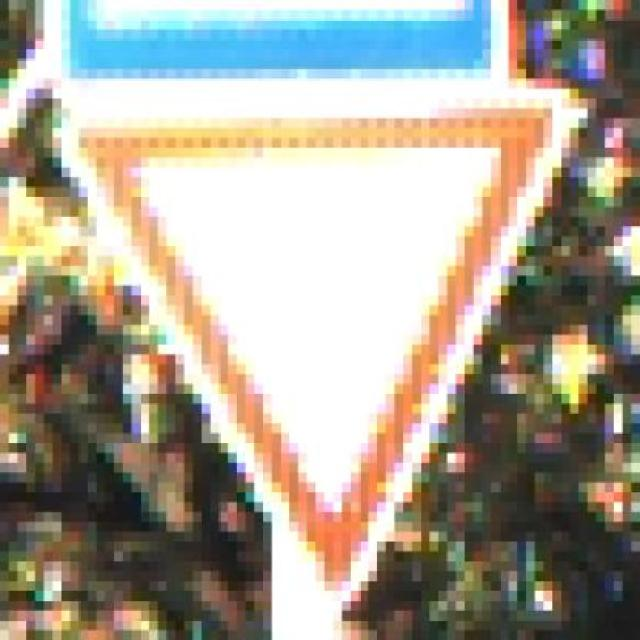Give Way: (18, 89, 605, 620)
